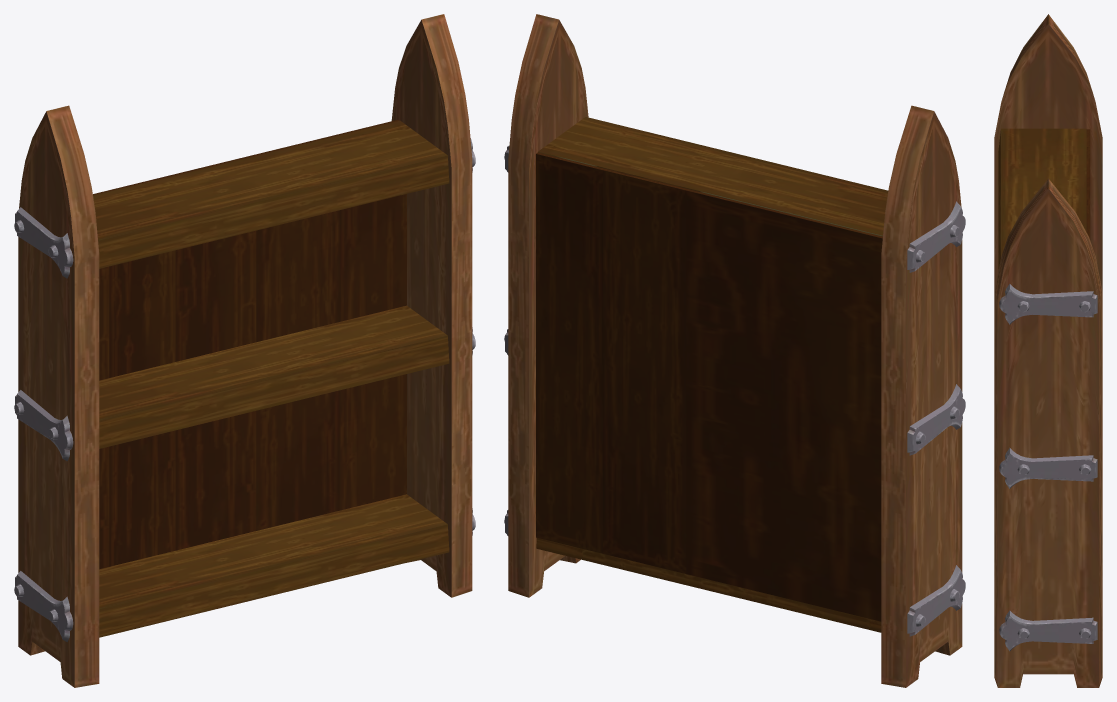
Rendered from shelf-arch.glb.
3 views of the same model, side by side, from view 1: azimuth 30°, elevation 25°; view 2: azimuth 150°, elevation 25°; view 3: azimuth 270°, elevation 25° (orthographic). The views are drawn at different scales.
Parts seen in each view (by area): view 1: Shelf_Arch; view 2: Shelf_Arch; view 3: Shelf_Arch.
Part boxes in pixels (x1=…): Shelf_Arch: x1=14, y1=14, x2=475, y2=687; Shelf_Arch: x1=504, y1=14, x2=965, y2=687; Shelf_Arch: x1=994, y1=14, x2=1102, y2=687.
Size of the model in its own units: 1.25 by 1.59 by 0.3116.
2 materials, 2 textured.
